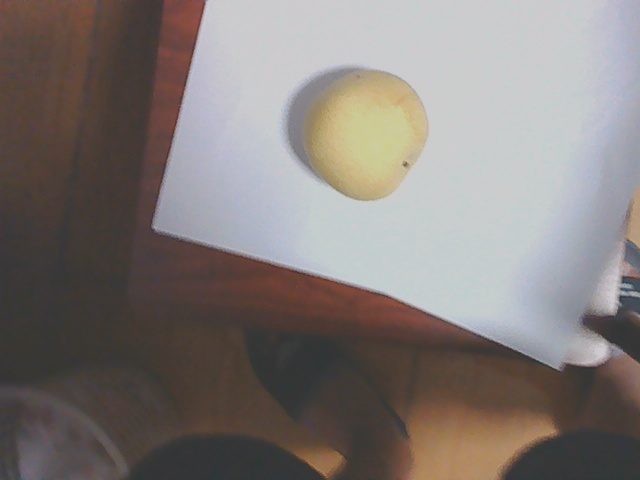pear: (303, 76, 427, 201)
